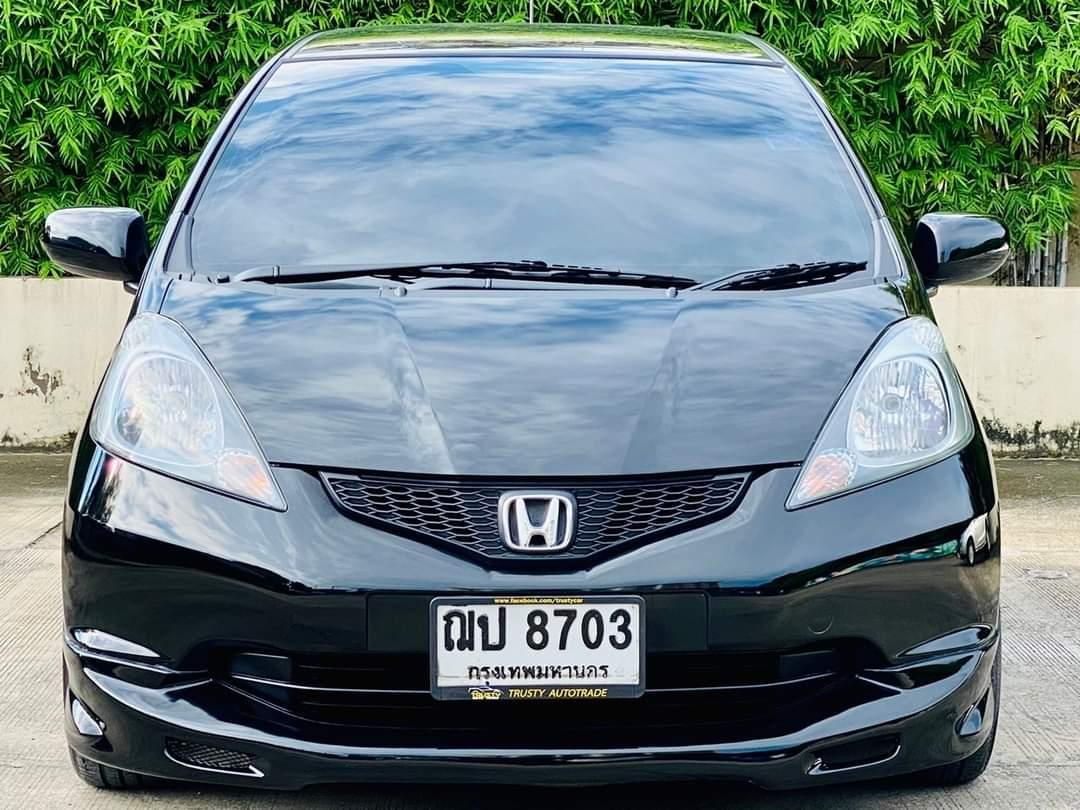license-plate: (427, 593, 647, 702)
